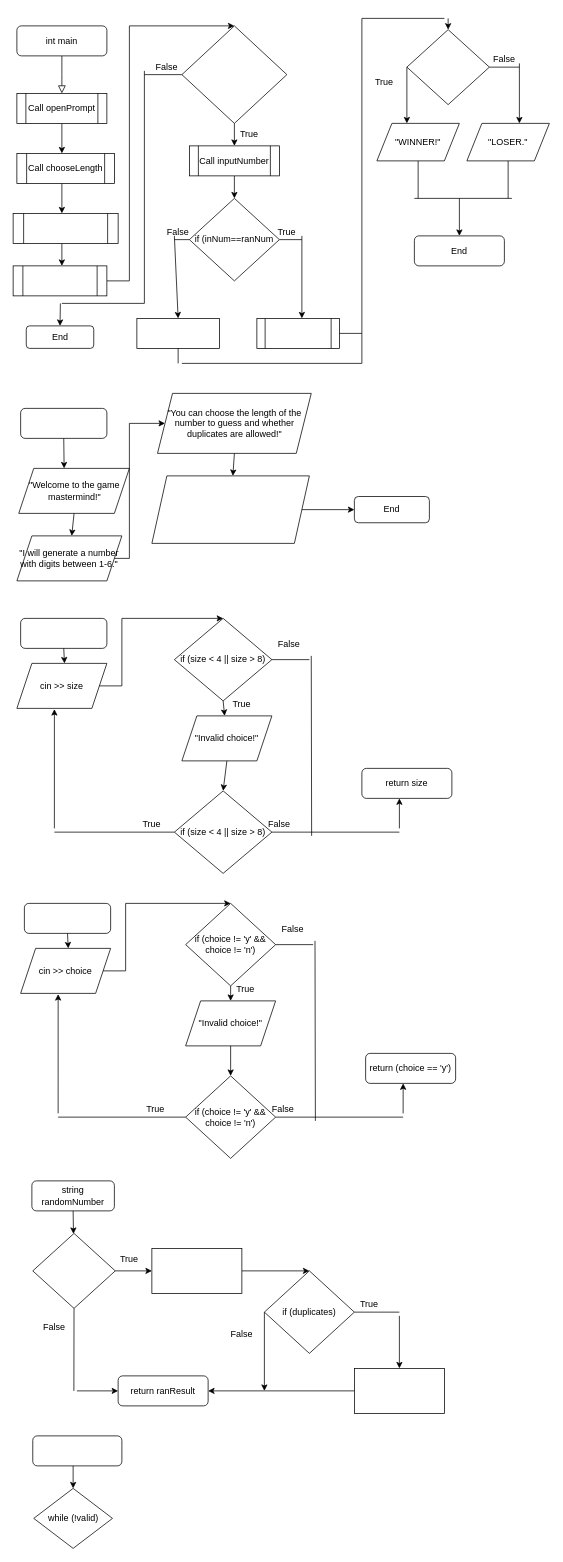
The diagram is 563 pixels wide and 1562 high, and some of its shapes have lost their labels. The shapes that lost their labels are listed below. From the top down, each one's centre as x and y in pixels, then its label:
point 234,74: while (tries < maxTries && !correctGuess)
point 447,67: if (correctGuess)
point 65,228: Call allowDuplicates
point 59,280: Call randomNumber
point 177,333: correctGuess = true
point 297,333: Call feedback
point 63,423: void openPrompt
point 230,509: "You have 10 tries to guess the number correctly."
point 63,633: int chooseLength
point 67,918: bool allowDuplicates
point 73,1270: while (ranResult.length() < size)
point 196,1270: char digit = rand() % 6 + '1'
point 399,1390: ranResult += digit
point 77,1450: string inputNumber
